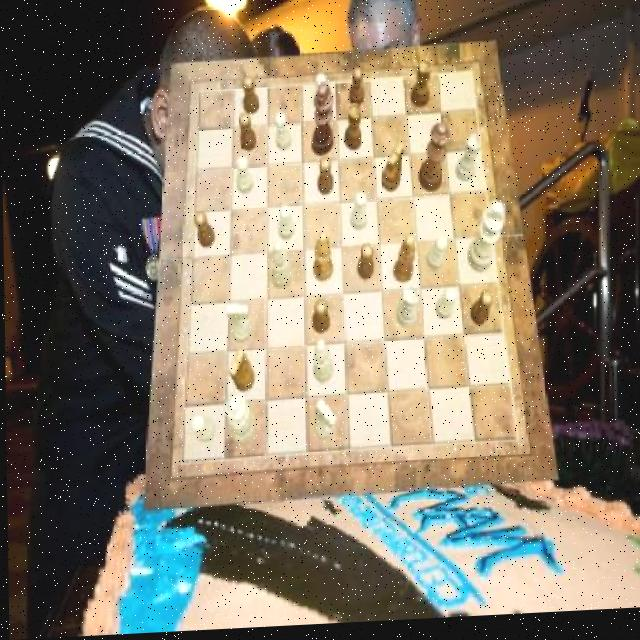bishop: (390, 241, 414, 289), (312, 234, 332, 286)
black-bishop: (311, 85, 335, 160)
black-king: (227, 351, 254, 395), (380, 148, 404, 197)
black-knight: (468, 295, 492, 331), (193, 213, 214, 252), (238, 114, 256, 155), (241, 79, 258, 118), (348, 71, 364, 111), (311, 302, 329, 337), (356, 246, 373, 283), (317, 160, 333, 198)
black-pawn: (415, 128, 449, 199)
black-queen: (409, 66, 432, 114), (344, 107, 362, 154)
black-rook: (269, 244, 290, 292), (311, 342, 333, 387)
white-bishop: (466, 206, 505, 278)
white-king: (225, 307, 250, 348), (311, 402, 334, 444)
white-knight: (425, 240, 448, 275), (435, 292, 456, 326), (348, 196, 366, 235), (190, 418, 215, 446), (234, 159, 252, 197), (274, 116, 291, 155), (312, 76, 328, 114), (277, 207, 293, 242)
white-pawn: (223, 393, 255, 449)
white-queen: (453, 141, 479, 188), (395, 291, 418, 334)
